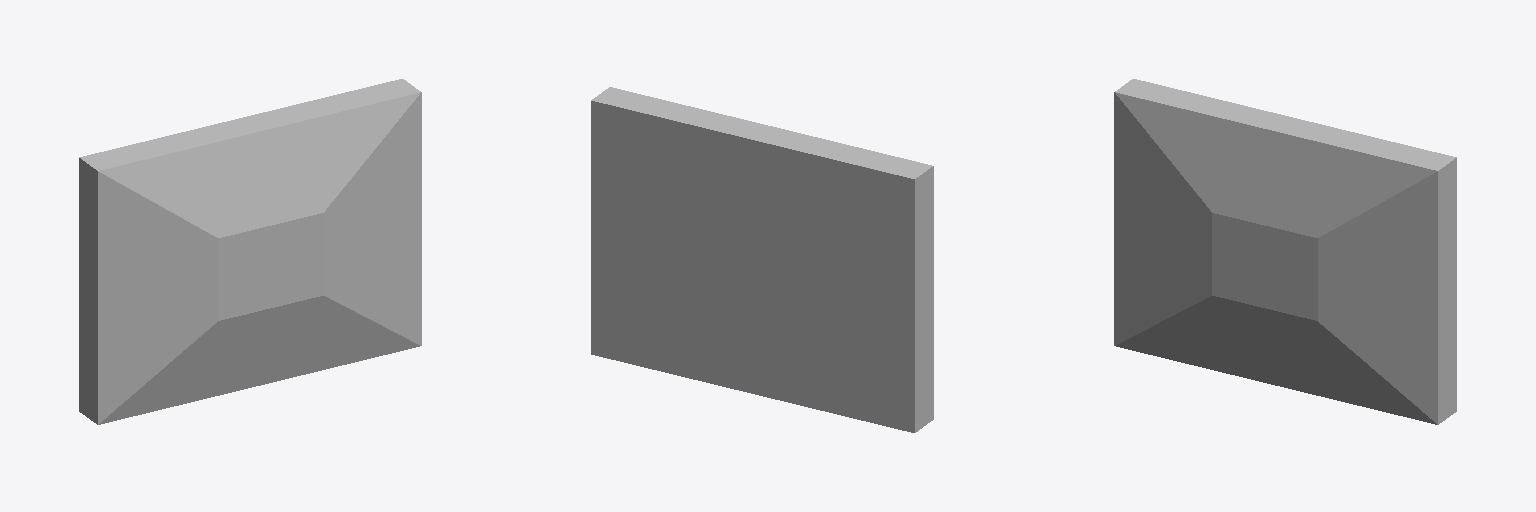
The model's file is paddle2.obj.
3 views of the same model, side by side, from view 1: azimuth 30°, elevation 25°; view 2: azimuth 150°, elevation 25°; view 3: azimuth 330°, elevation 25° (orthographic).
Parts seen in each view (by area): view 1: Mesh_Ball_Screen; view 2: Mesh_Ball_Screen; view 3: Mesh_Ball_Screen.
Boxes of the visible parts, <box> form: Mesh_Ball_Screen: <box>79,79,421,424</box>; Mesh_Ball_Screen: <box>591,87,933,432</box>; Mesh_Ball_Screen: <box>1114,79,1456,424</box>.
Bounding box in the file's own units: 1 × 0.75 × 0.1608.